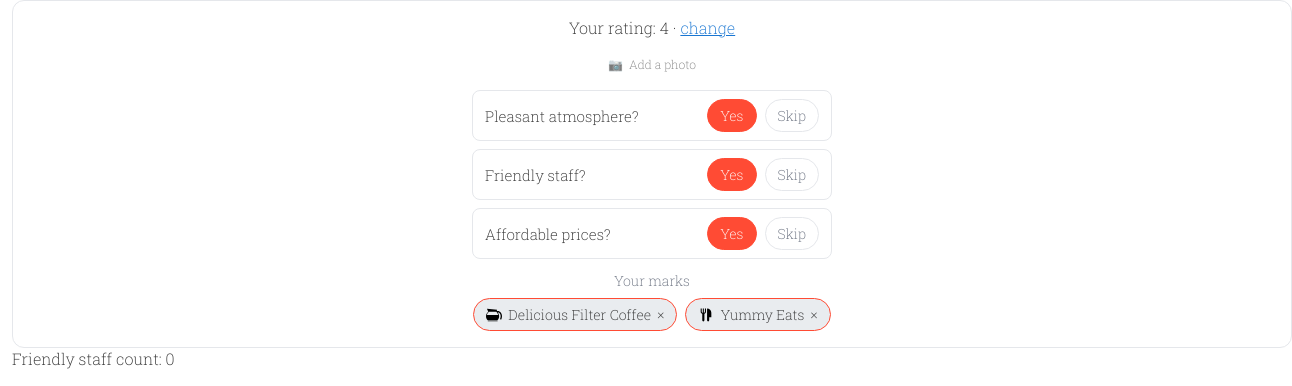
Test case: RateBlock › marks the Characteristic on Yes and does not ask again
Expected: the text "Friendly staff count: 0" is shown, [12, 348, 175, 369]
Step 1. Click the button "Yes" next to "Friendly staff?" → [732, 175], box [707, 158, 756, 191]
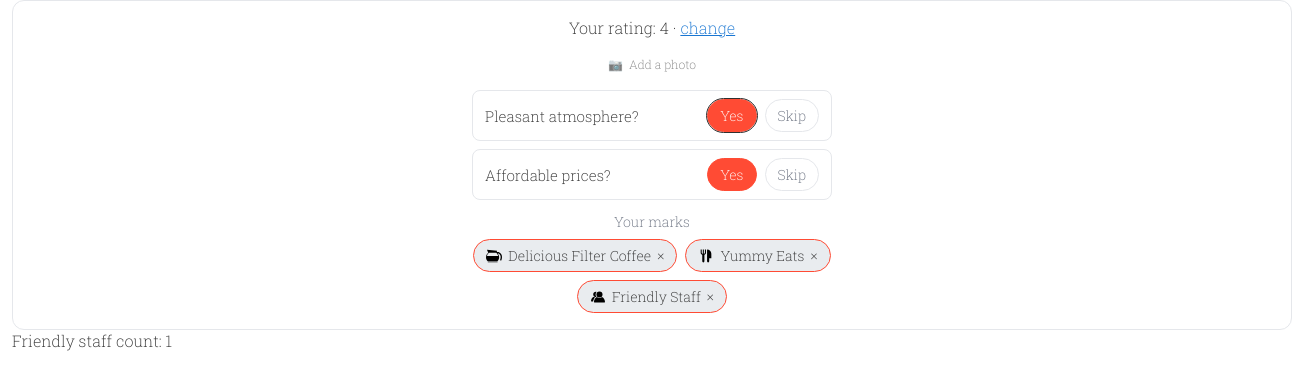
Result: the text "Friendly staff count: 1" is shown at [12, 330, 172, 351]
